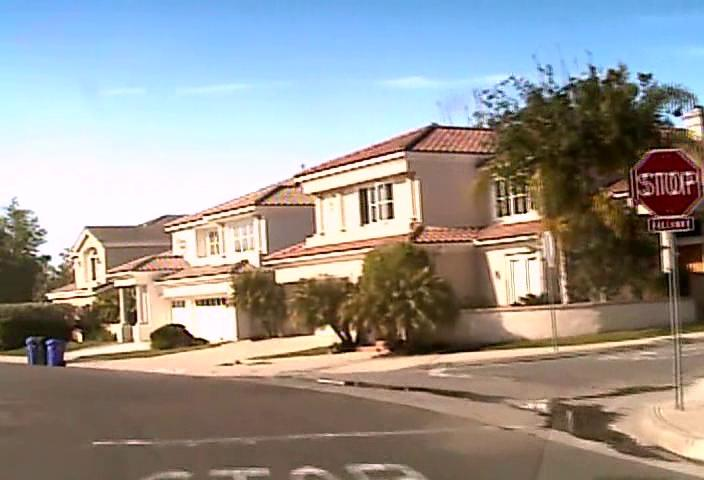stop: (629, 148, 703, 217)
